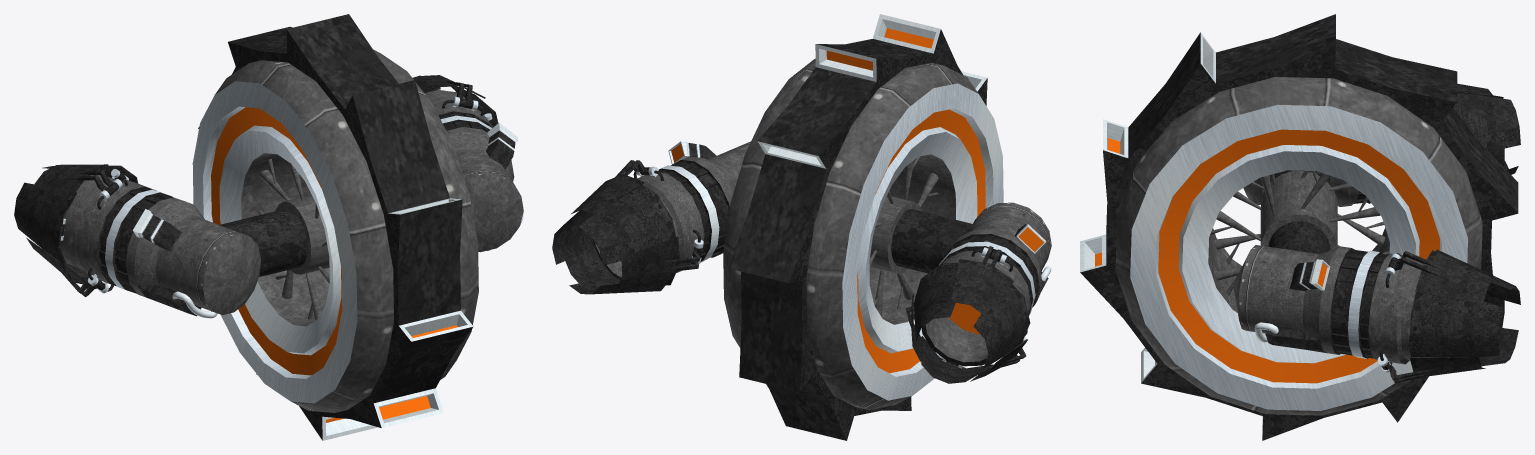
The model's file is DW_Mesh_Collide.fbx.
The picture shows the model from 3 angles, left to right: view 1: azimuth 30°, elevation 25°; view 2: azimuth 150°, elevation 25°; view 3: azimuth 270°, elevation 25°; orthographic projection. The views are drawn at different scales.
Parts seen in each view (by area): view 1: DW_Mesh_Collide; view 2: DW_Mesh_Collide; view 3: DW_Mesh_Collide.
Part boxes in pixels (left/top/right/bottom): DW_Mesh_Collide: left=14, top=14, right=523, bottom=440; DW_Mesh_Collide: left=552, top=14, right=1051, bottom=440; DW_Mesh_Collide: left=1080, top=14, right=1520, bottom=440.
Bounding box in the file's own units: 5.97 × 4.95 × 4.99.
